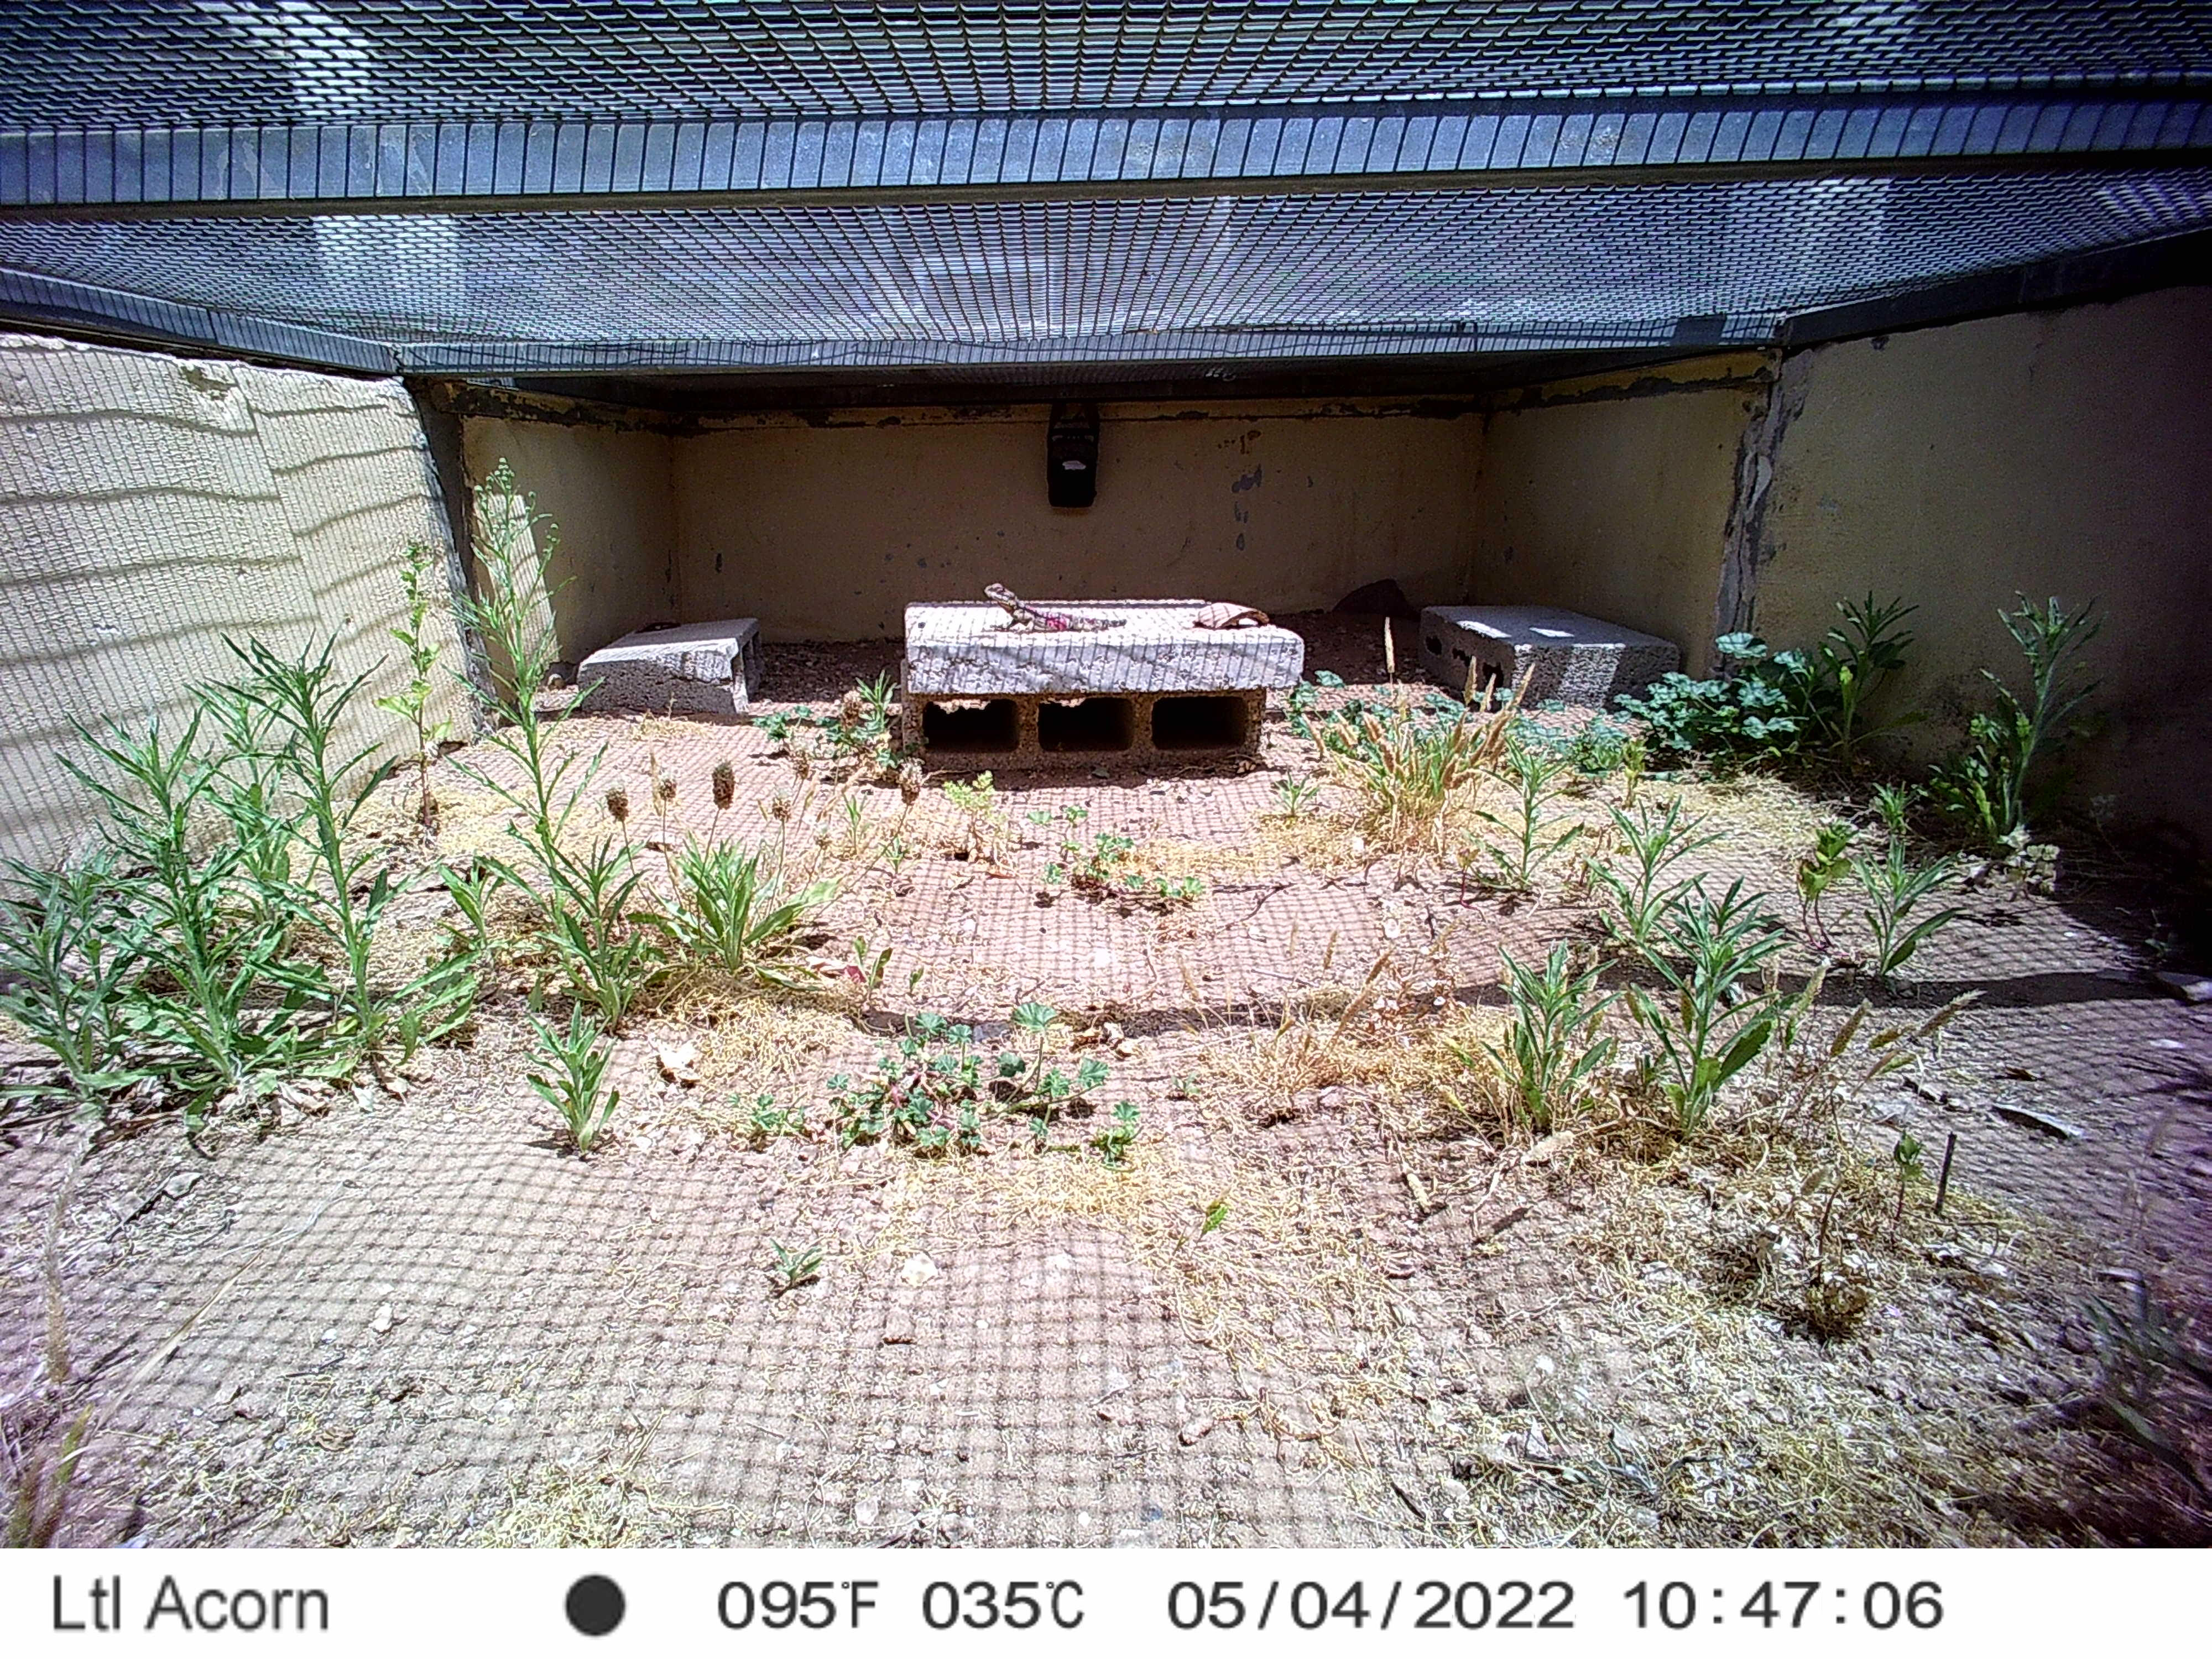lizard: (740, 237, 845, 281)
